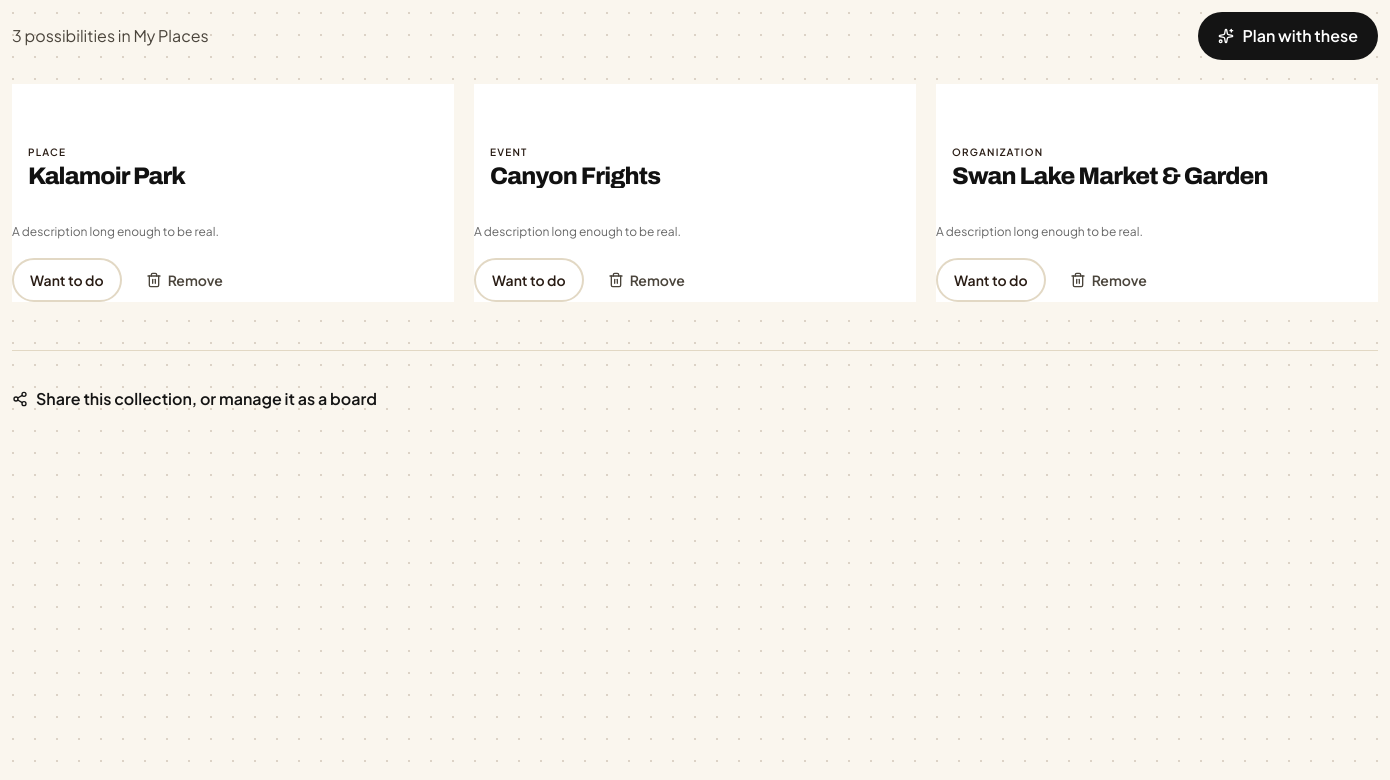
Test: taking something out › removes it from the collection
What coordinates should you click on to do the following:
click the button with test id "saved-remove"
I would click on:
 (184, 280)
Its box is x1=130 y1=258 x2=239 y2=302.
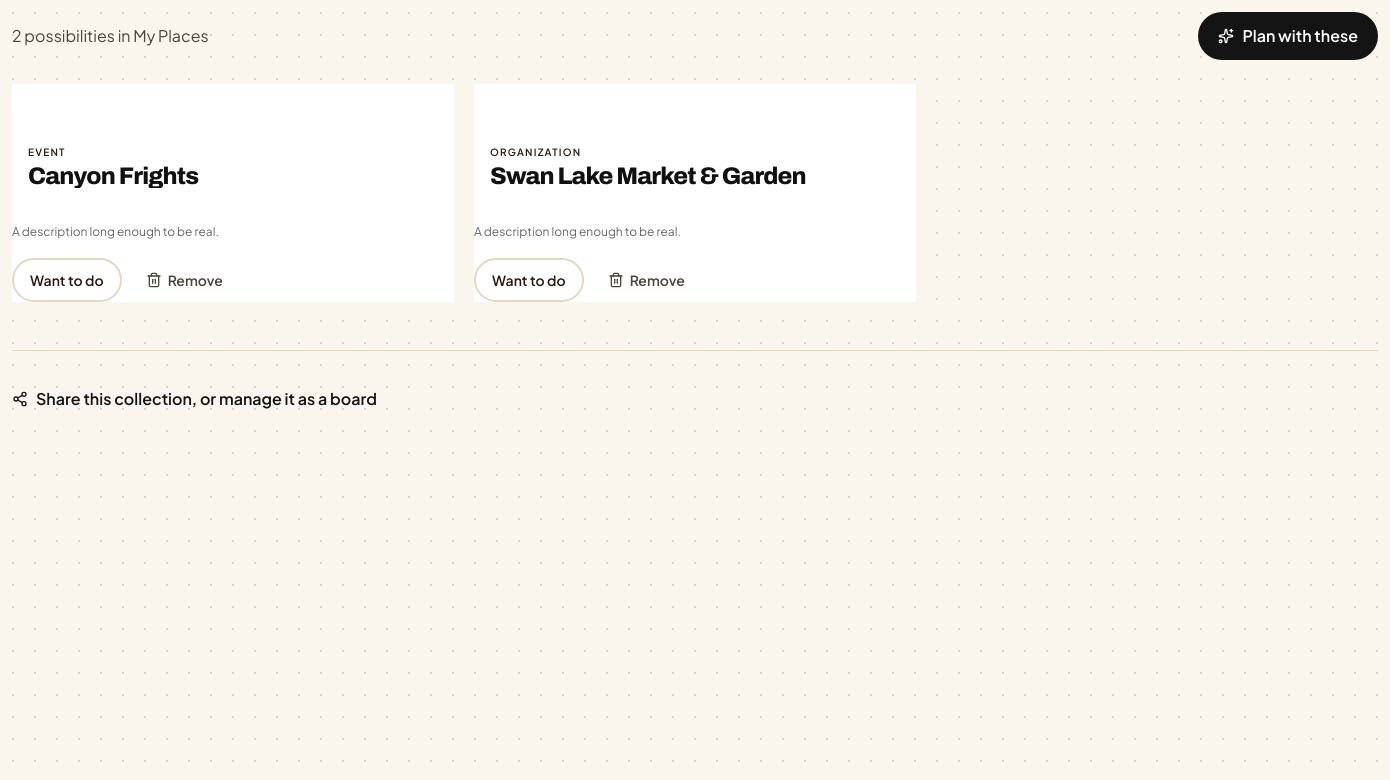
Check: the element with test id "saved-review" no longer shows "Kalamoir Park", box x1=12 y1=12 x2=1378 y2=422
